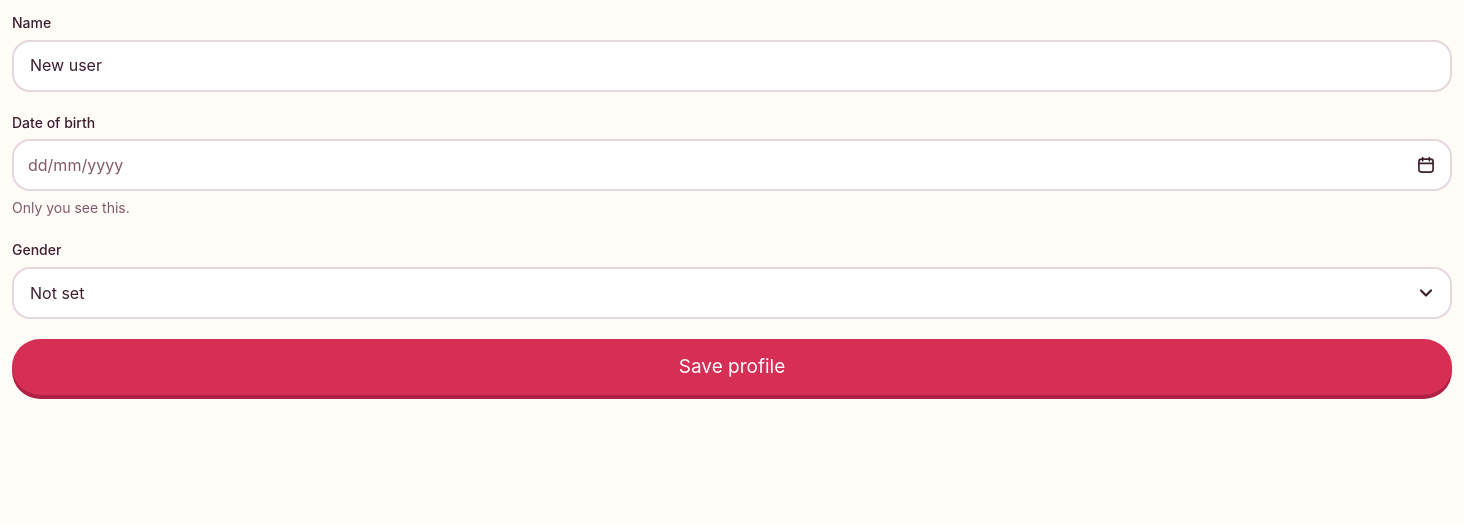
Test case: ProfileForm › reports the server message when saving fails
This screenshot has width=1464, height=524.
Click the button "Save profile": [732, 367] box x1=12 y1=339 x2=1452 y2=395
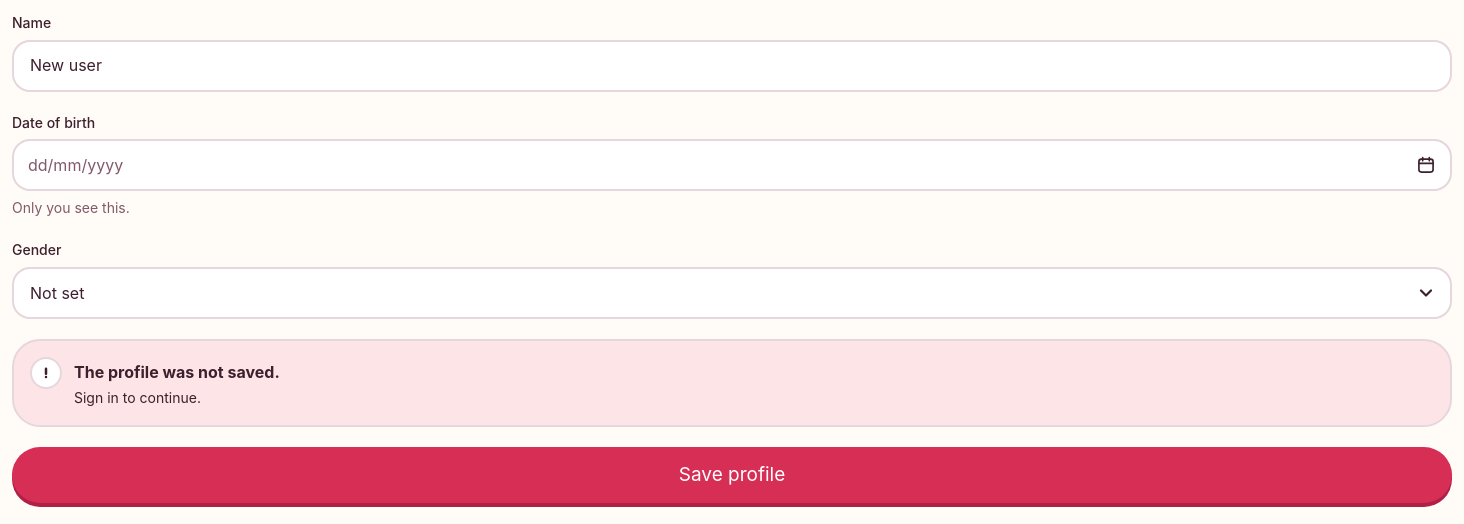
Result: the message shows "Sign in to continue." at x1=74 y1=389 x2=201 y2=406
